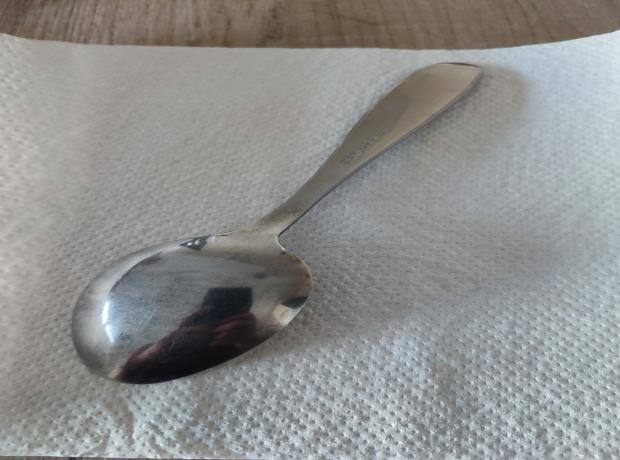metal: (69, 61, 489, 385)
